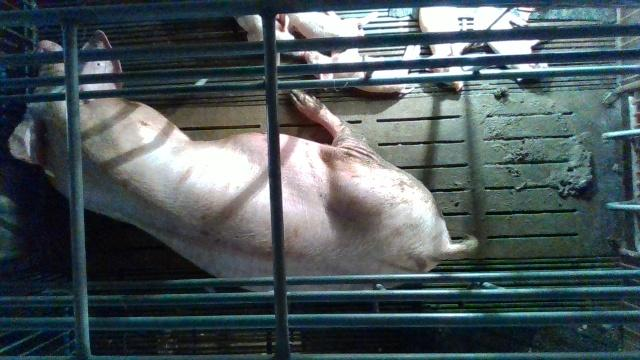piglet: (474, 7, 550, 81), (304, 45, 421, 93), (420, 7, 474, 91), (234, 14, 304, 57), (282, 12, 379, 37)
sow-sit: (11, 31, 477, 295)
